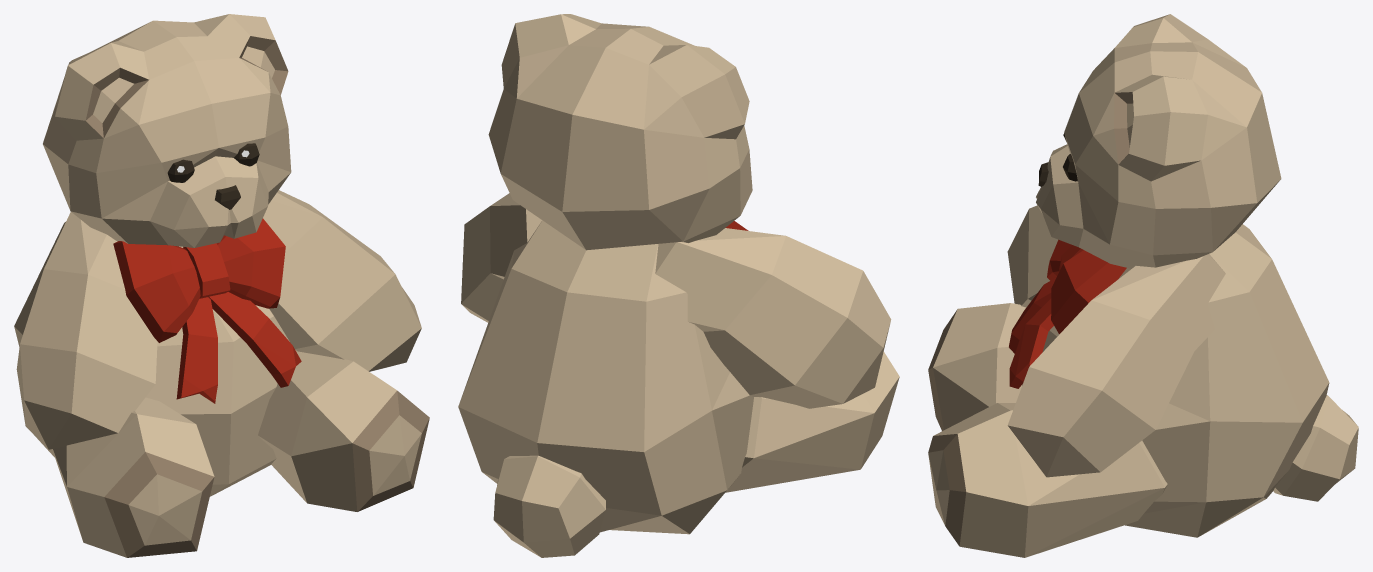
File: SM_Prop_Teddy_01.fbx
The picture shows the model from 3 angles, left to right: view 1: azimuth 30°, elevation 25°; view 2: azimuth 150°, elevation 25°; view 3: azimuth 270°, elevation 25°; orthographic projection. The views are drawn at different scales.
Visible parts, largest first — view 1: SM_Prop_Teddy_01; view 2: SM_Prop_Teddy_01; view 3: SM_Prop_Teddy_01.
Boxes of the visible parts, x1,y1,x2,y2 form: SM_Prop_Teddy_01: (14, 14, 429, 557); SM_Prop_Teddy_01: (458, 14, 899, 557); SM_Prop_Teddy_01: (928, 14, 1358, 557).
Bounding box in the file's own units: 43.99 × 49.57 × 41.31.
1 material, 1 textured.
